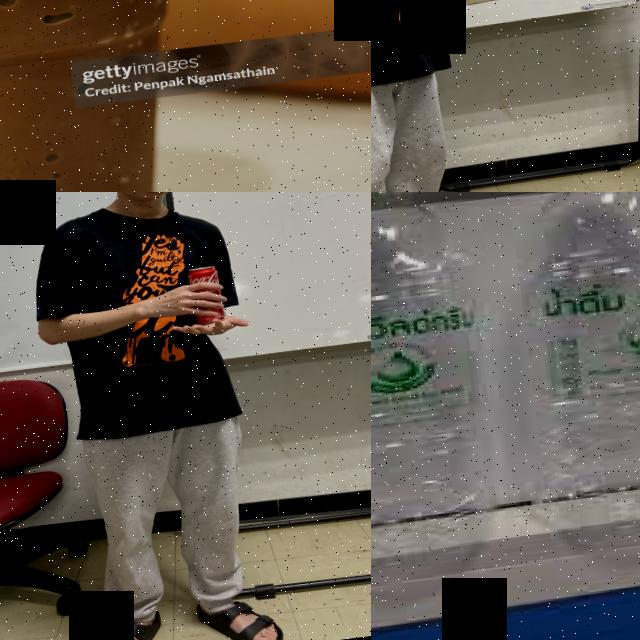bottle: (476, 192, 640, 538), (371, 192, 506, 592)
can: (185, 264, 228, 326)
cup: (0, 0, 229, 192)
